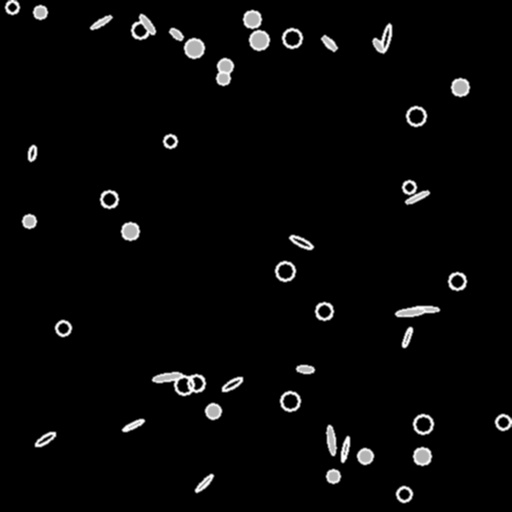pseudomonas: (137, 13, 157, 35), (379, 23, 393, 53), (194, 473, 214, 493), (34, 430, 56, 448), (405, 189, 429, 205), (289, 234, 313, 250), (221, 376, 243, 392), (90, 14, 112, 30), (320, 34, 338, 52), (122, 418, 144, 432), (326, 425, 336, 455), (153, 372, 181, 382), (396, 307, 424, 317), (401, 326, 413, 348), (168, 26, 184, 42), (340, 437, 350, 461), (371, 37, 385, 53), (411, 306, 439, 312), (296, 365, 314, 373), (28, 145, 36, 161)
synechocystis: (283, 29, 301, 47), (407, 107, 425, 125), (250, 31, 268, 49), (414, 415, 432, 433), (276, 262, 294, 280), (281, 392, 299, 410), (175, 376, 193, 394), (185, 39, 203, 57), (316, 303, 332, 319), (188, 375, 204, 391), (101, 191, 117, 207), (449, 273, 465, 289), (132, 22, 148, 38), (122, 223, 138, 239), (414, 448, 430, 464), (244, 11, 260, 27), (452, 79, 468, 95), (496, 415, 510, 429), (218, 59, 232, 73), (206, 404, 220, 418), (397, 487, 411, 501), (358, 449, 372, 463), (56, 321, 70, 335), (6, 1, 18, 13), (327, 470, 339, 482), (403, 181, 415, 193), (23, 215, 35, 227), (164, 135, 176, 147), (34, 6, 46, 18), (217, 72, 229, 84)
